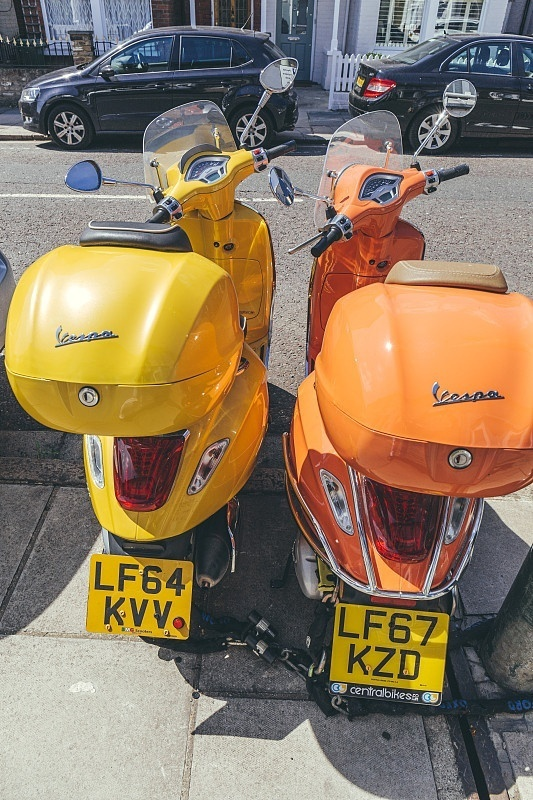non-vehicle: (25, 104, 284, 689), (277, 149, 530, 658)
